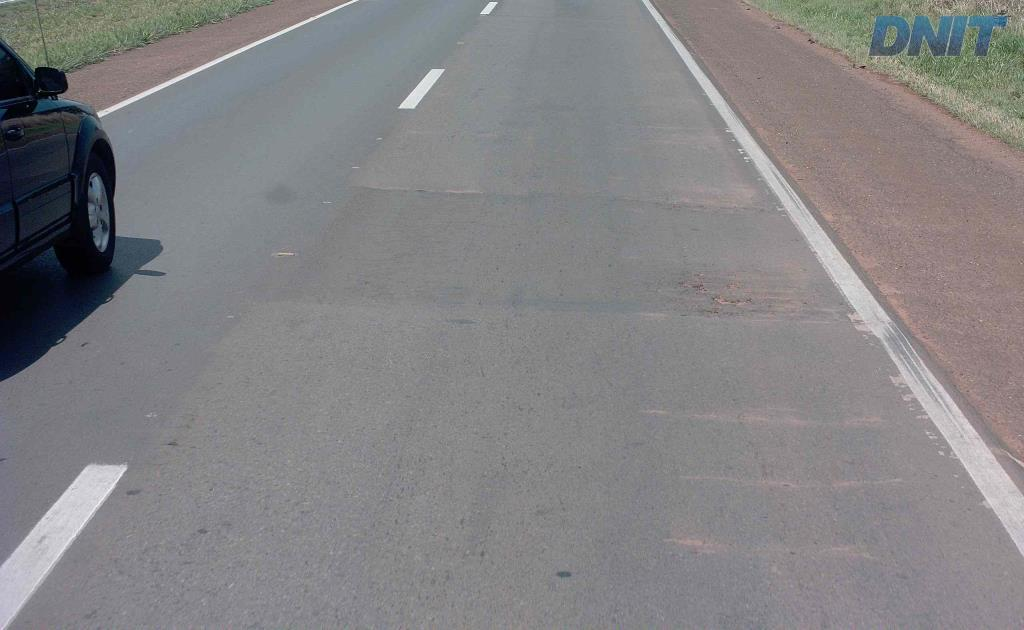pothole: (710, 297, 756, 306), (685, 277, 710, 293)
